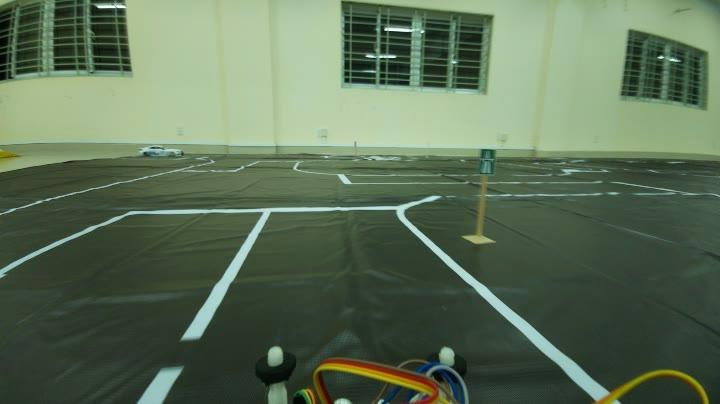highway_entry: (474, 142, 504, 184)
